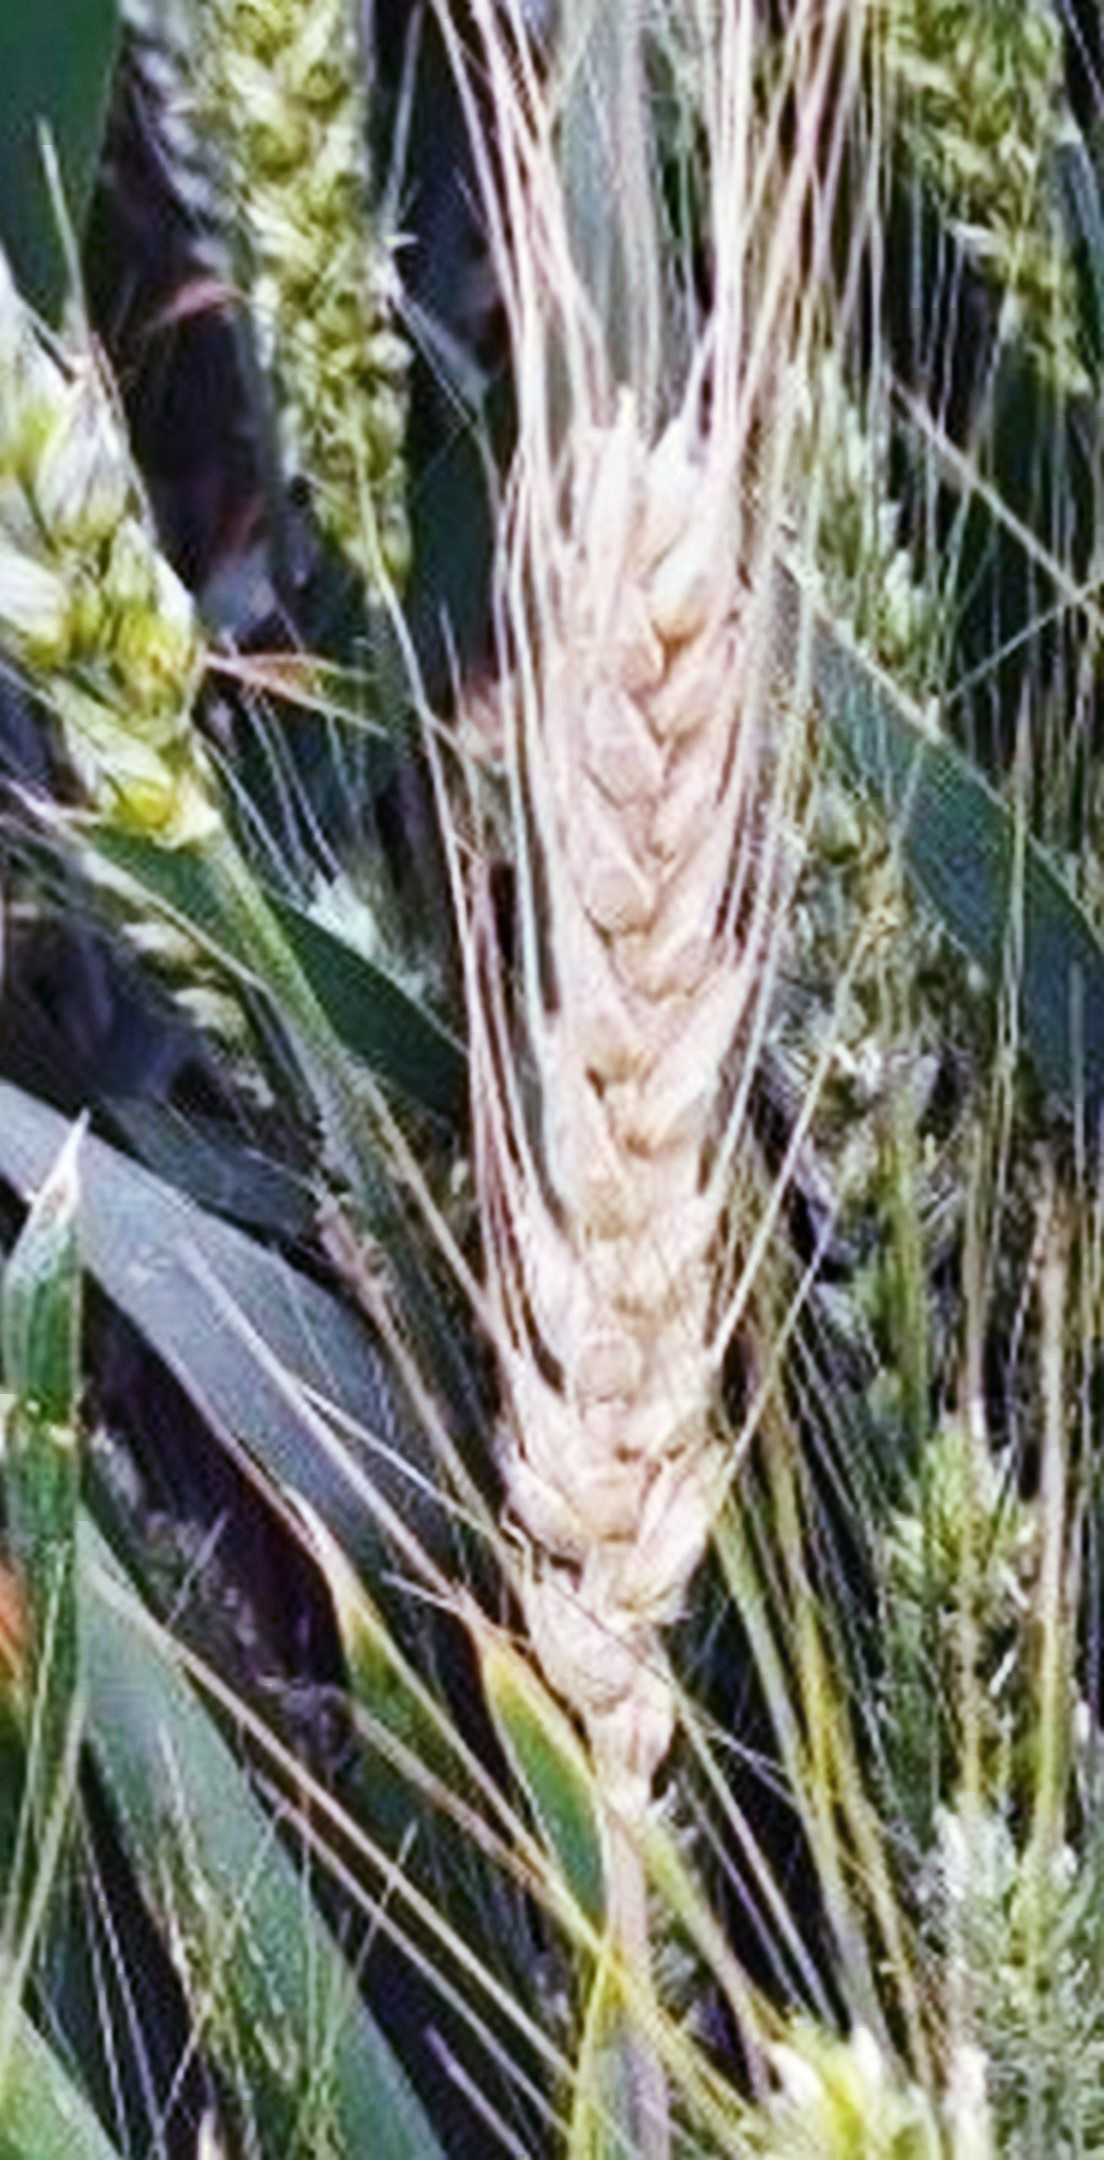Wheat scab: (483, 434, 831, 1754)
